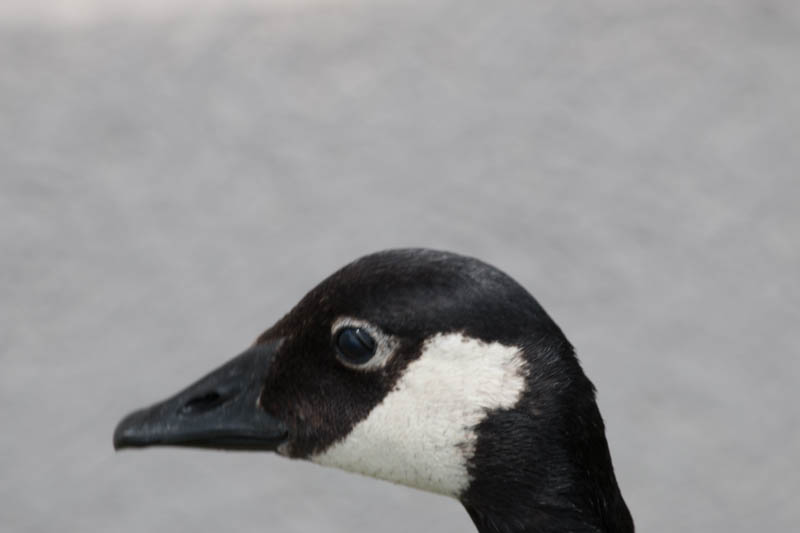goose-head: (113, 250, 622, 502)
